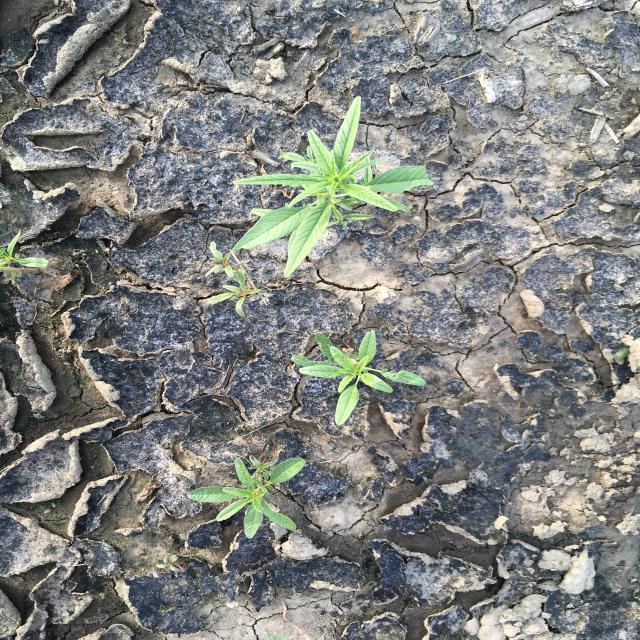Waterhemp: (229, 96, 438, 279), (289, 328, 428, 427), (182, 453, 308, 540), (193, 242, 266, 319)
